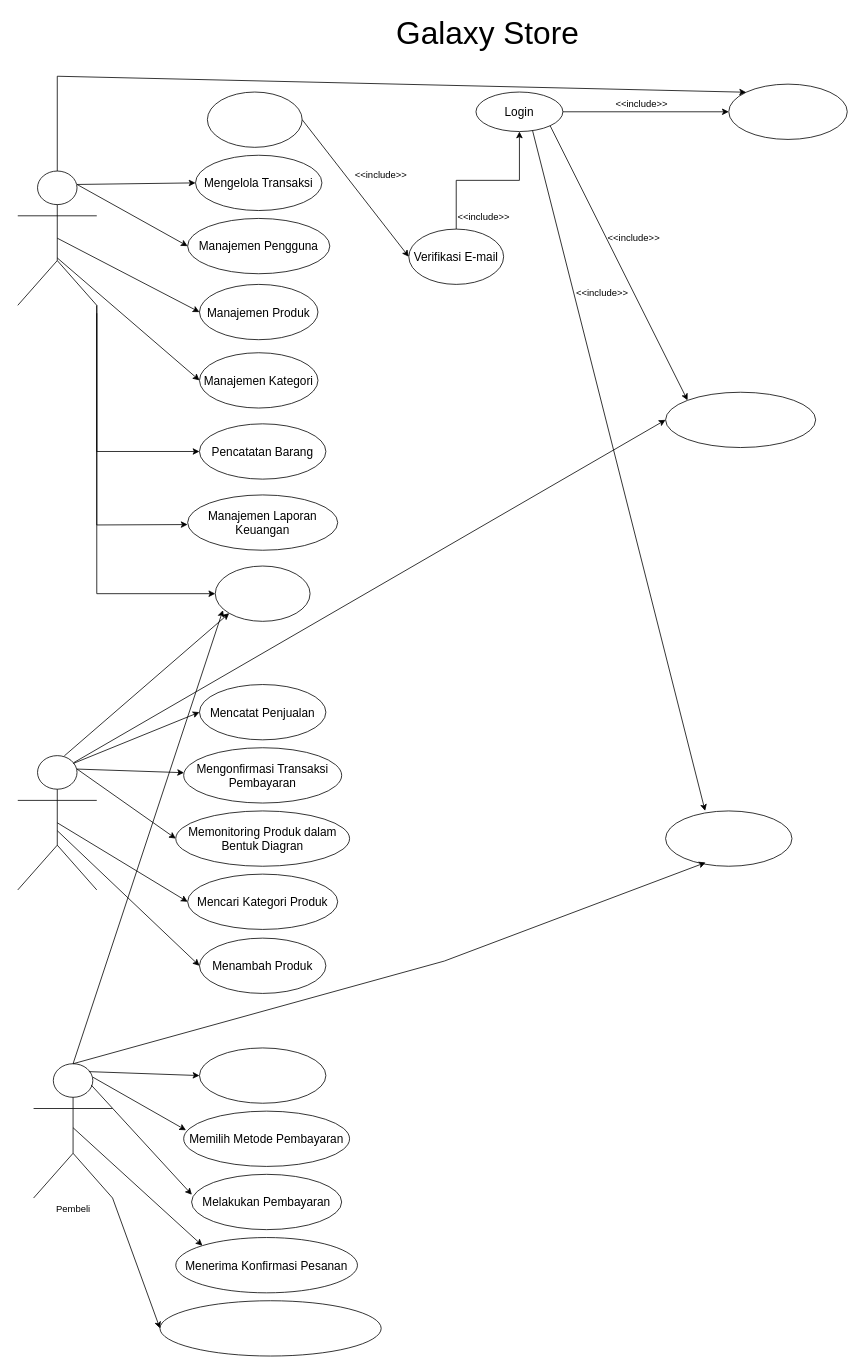
Some shapes in this 861 by 1370 pixel diagram are drawn without their labels. Each missing label, with the box of its shape:
Administrator Sistem: (17, 170, 97, 305)
Akaes Katalog Penjualan: (665, 391, 816, 448)
Akun Dashboard: (728, 83, 847, 139)
Logout: (214, 565, 310, 621)
Melakukan Checkout: (199, 1047, 326, 1103)
Menambahkan Produk ke Keranjang: (159, 1300, 381, 1356)
Mencari Produk: (665, 810, 792, 866)
Penjual: (17, 755, 97, 890)
Registrasi Akun: (207, 91, 302, 147)
